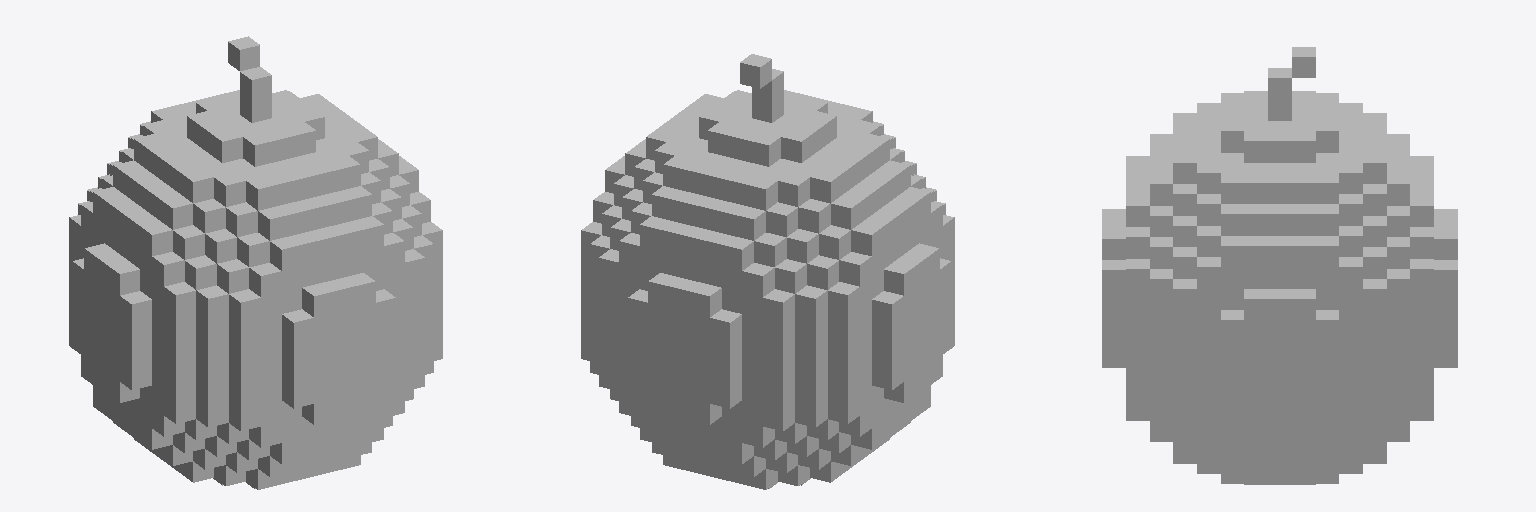
Rendered from bomb.obj.
3 renders of one model, left to right at view 1: azimuth 30°, elevation 25°; view 2: azimuth 150°, elevation 25°; view 3: azimuth 270°, elevation 25°, orthographic.
Parts seen in each view (by area): view 1: object 1; view 2: object 1; view 3: object 1.
Part boxes in pixels (bbox=[...]): object 1: bbox=[69, 36, 442, 489]; object 1: bbox=[581, 54, 954, 489]; object 1: bbox=[1102, 47, 1457, 484].
Bounding box in the file's own units: 1.5 × 1.9 × 1.5.